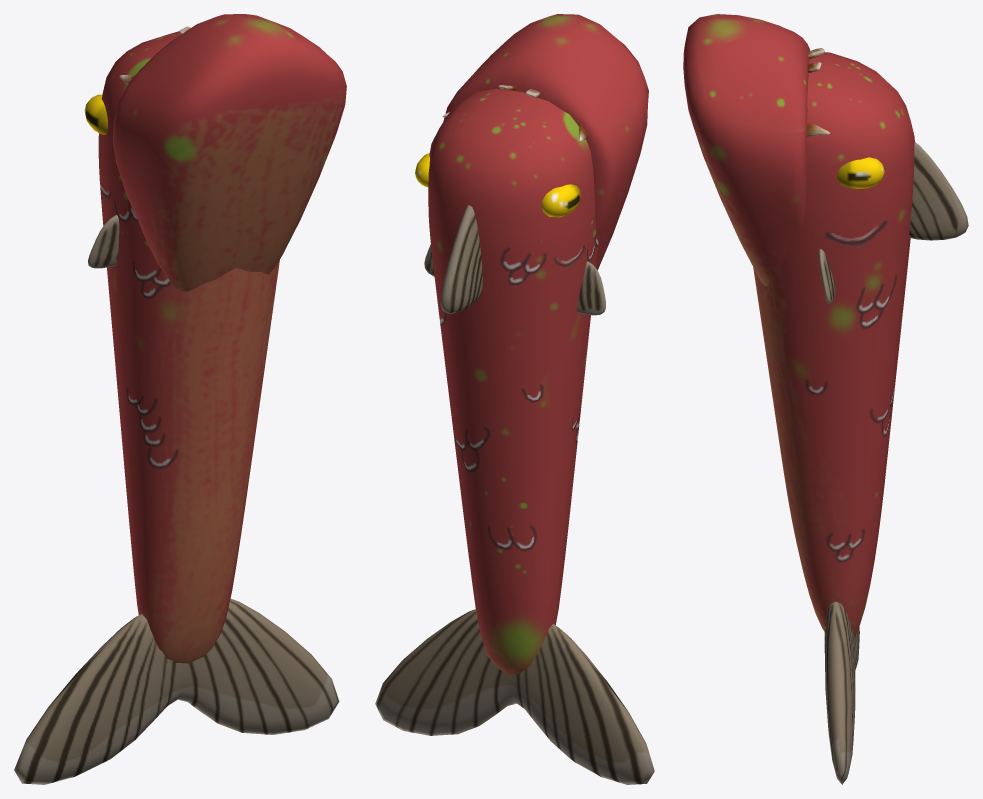
File: FishBullet.fbx
3 views of the same model, side by side, from view 1: azimuth 30°, elevation 25°; view 2: azimuth 150°, elevation 25°; view 3: azimuth 270°, elevation 25° (orthographic). The views are drawn at different scales.
Parts seen in each view (by area): view 1: Fish; view 2: Fish; view 3: Fish.
Boxes of the visible parts, x1=… form: Fish: x1=14, y1=14, x2=346, y2=784; Fish: x1=375, y1=14, x2=654, y2=784; Fish: x1=683, y1=14, x2=968, y2=784.
Size of the model in its own units: 207 by 483 by 176.
